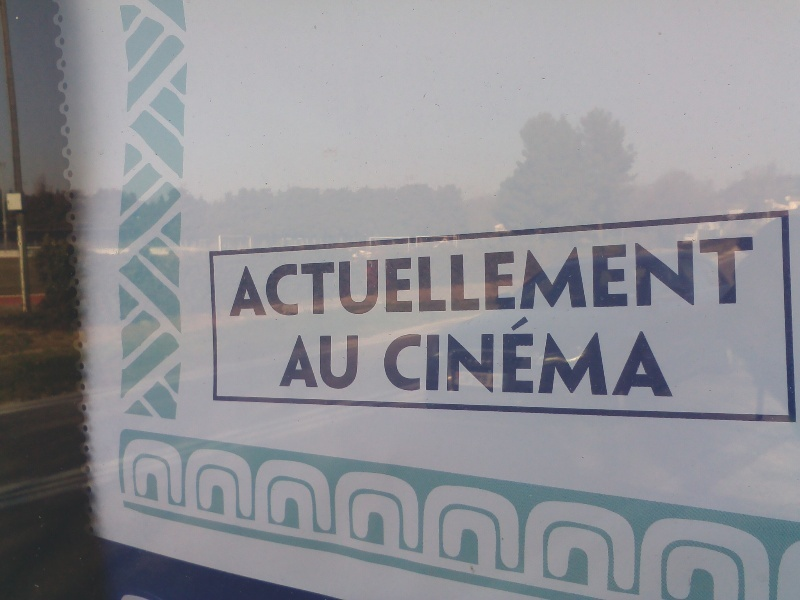text: (401, 314, 416, 399), (417, 314, 432, 399), (433, 314, 448, 399), (449, 314, 464, 399), (465, 314, 480, 399), (481, 314, 496, 399), (497, 314, 512, 399), (513, 314, 528, 399), (529, 314, 544, 399), (545, 314, 560, 399), (561, 314, 576, 399), (577, 314, 592, 399), (593, 314, 608, 399), (609, 314, 624, 399), (625, 314, 640, 399), (641, 314, 656, 399), (657, 314, 672, 399), (257, 235, 272, 319), (273, 235, 288, 319), (289, 235, 304, 319), (305, 235, 320, 319), (321, 235, 336, 319), (337, 235, 352, 319), (353, 235, 368, 319), (369, 235, 384, 319), (385, 235, 400, 319), (401, 235, 416, 319), (417, 235, 432, 319), (433, 235, 448, 319), (449, 235, 464, 319), (465, 235, 480, 319), (481, 235, 496, 319), (497, 235, 512, 319), (513, 235, 528, 319), (529, 235, 544, 319), (545, 235, 560, 319), (561, 235, 576, 319), (577, 235, 592, 319), (593, 235, 608, 319), (609, 235, 624, 319), (625, 235, 640, 319), (641, 235, 656, 319), (657, 235, 672, 319), (673, 235, 688, 319), (689, 235, 704, 319), (705, 235, 720, 319), (721, 235, 736, 319), (737, 235, 752, 319), (386, 314, 400, 399), (243, 235, 256, 319), (289, 334, 304, 391), (305, 334, 320, 391), (321, 334, 336, 391), (337, 334, 352, 391), (753, 235, 758, 319), (353, 334, 360, 391), (286, 334, 288, 391), (673, 314, 674, 399)
